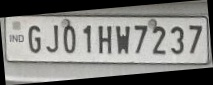character: (97, 24, 112, 54), (115, 24, 130, 54), (133, 24, 148, 53), (27, 24, 42, 52), (45, 24, 59, 53), (62, 24, 76, 53), (152, 26, 166, 55), (170, 25, 184, 54), (188, 24, 202, 53), (82, 24, 91, 54)
